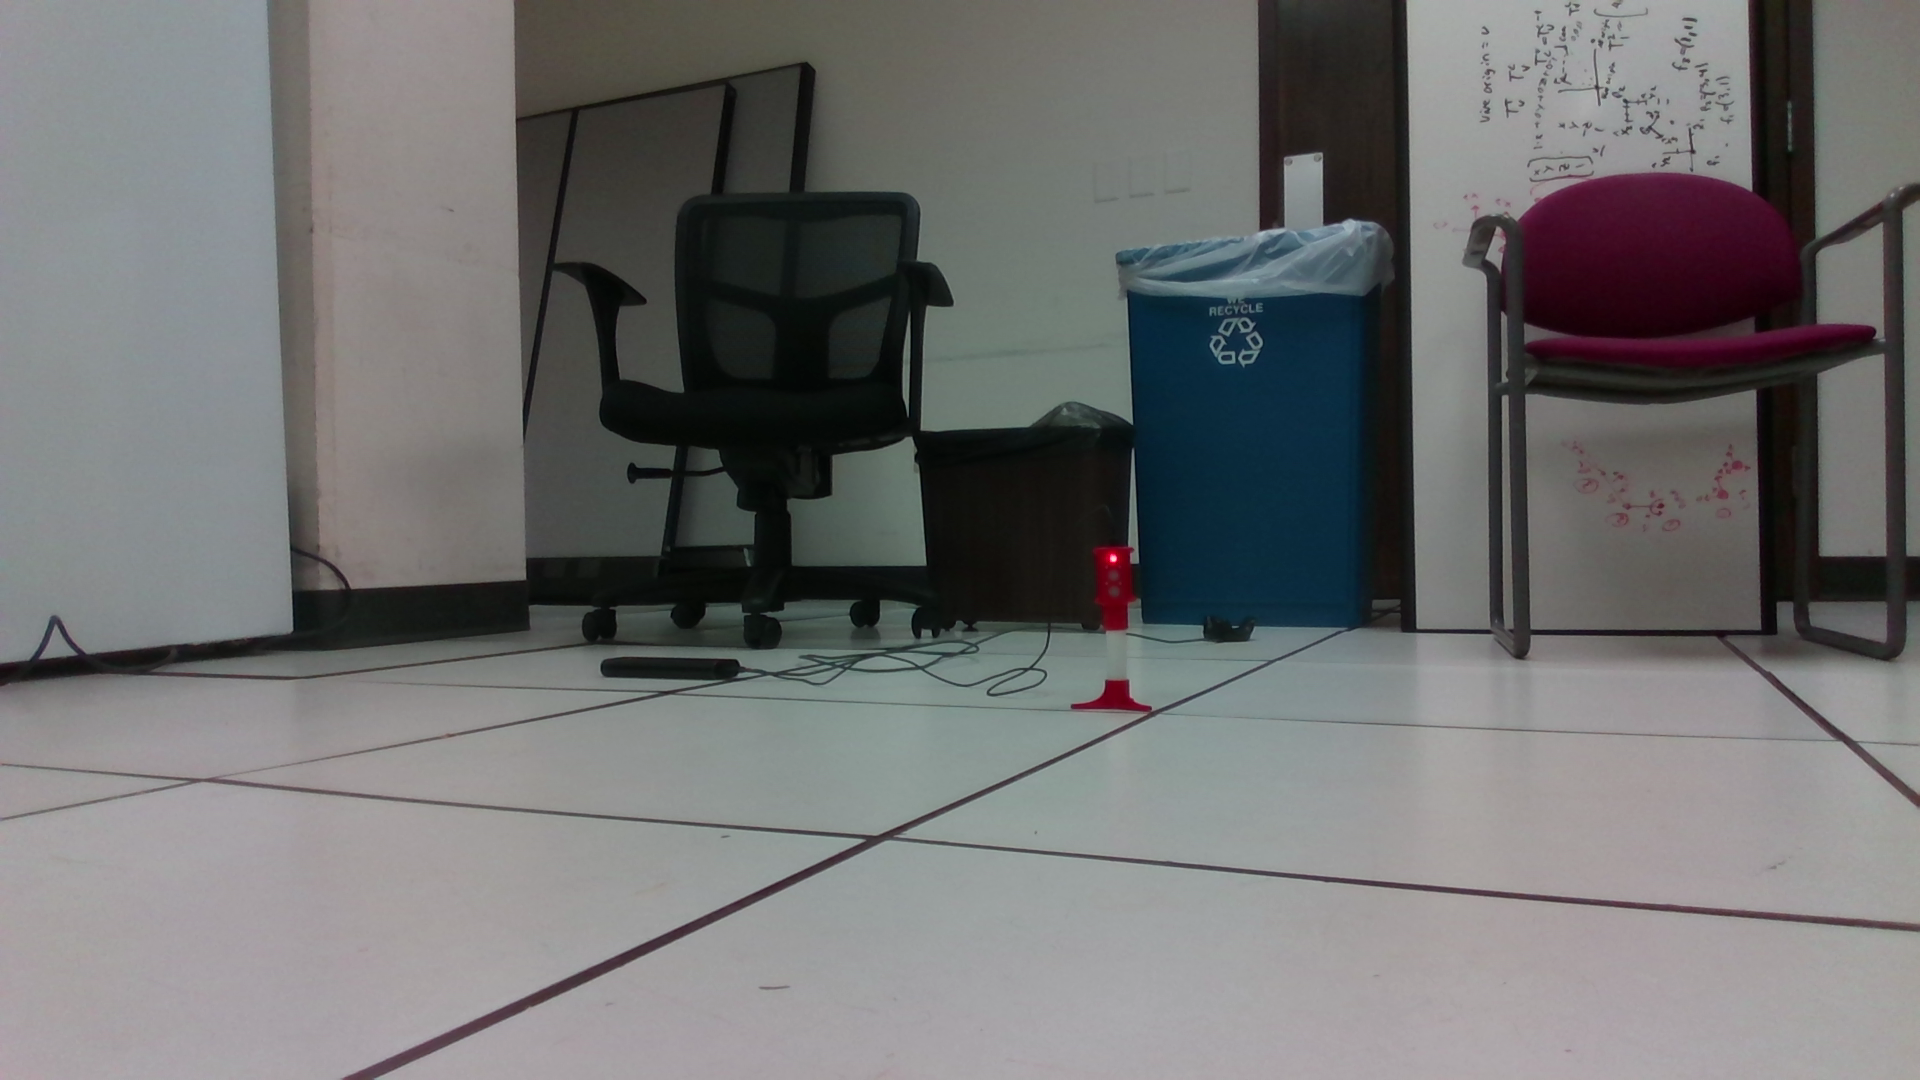stoplight: (1091, 545, 1135, 636)
